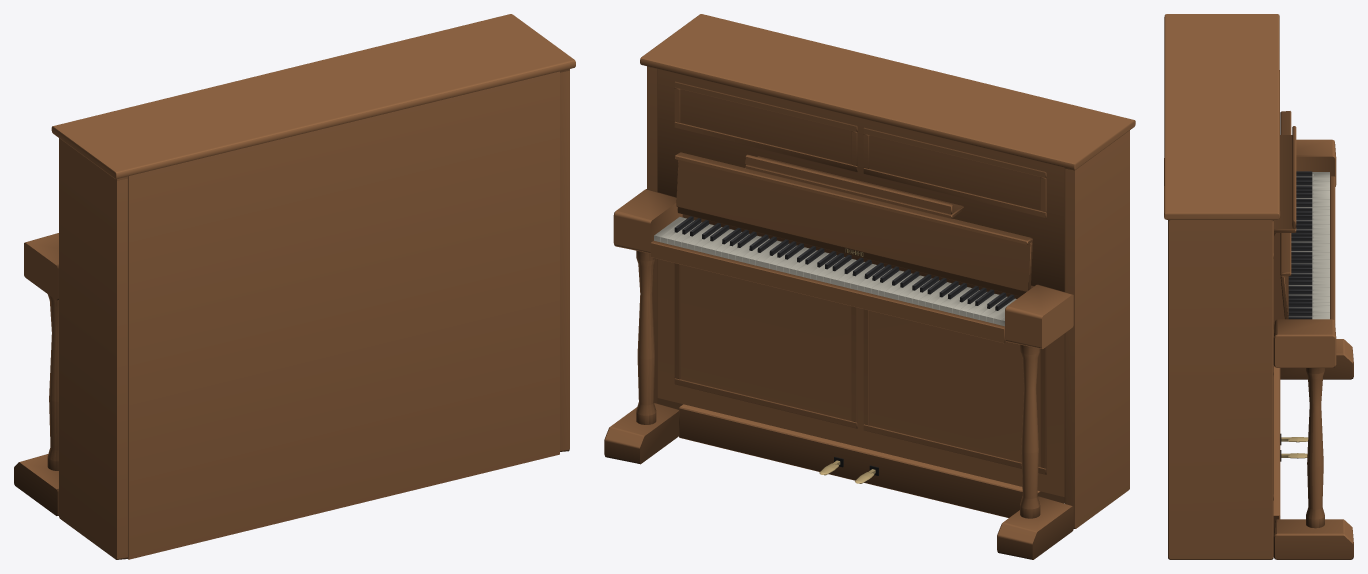
File: upright_piano.glb
3 views of the same model, side by side, from view 1: azimuth 30°, elevation 25°; view 2: azimuth 150°, elevation 25°; view 3: azimuth 270°, elevation 25° (orthographic). The views are drawn at different scales.
Parts seen in each view (by area): view 1: case; view 2: case, lid, music_desk; view 3: case, music_desk, lid.
Part boxes in pixels (x1,y1,x2,y2): case: (14, 14, 575, 559); case: (604, 14, 1135, 559); lid: (675, 152, 1032, 291); music_desk: (745, 154, 963, 218); case: (1164, 14, 1353, 559); music_desk: (1274, 126, 1296, 235); lid: (1280, 111, 1291, 319).
Size of the model in its own units: 1.47 by 1.2 by 0.592.
